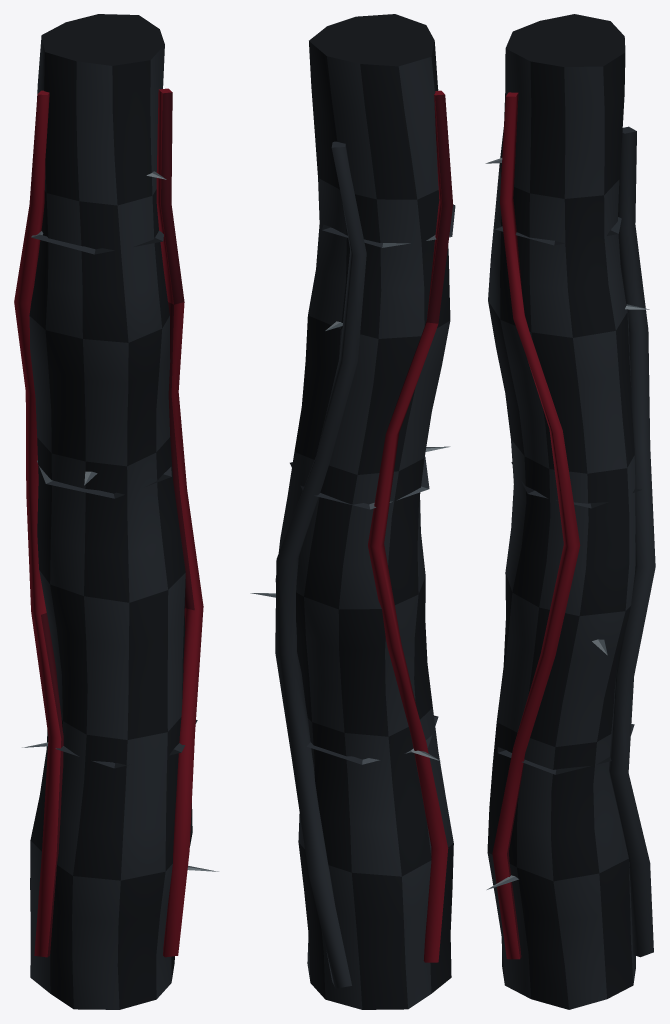
File: whipfist_segment.obj
The picture shows the model from 3 angles, left to right: view 1: azimuth 30°, elevation 25°; view 2: azimuth 150°, elevation 25°; view 3: azimuth 270°, elevation 25°; orthographic projection.
Parts seen in each view (by area): view 1: whipfist_segment; view 2: whipfist_segment; view 3: whipfist_segment.
Boxes of the visible parts, x1,y1,x2,y2 form: whipfist_segment: (14,14,218,1009); whipfist_segment: (250,14,455,1009); whipfist_segment: (485,14,655,1009).
Bounding box in the file's own units: 0.2062 × 1 × 0.1662.
